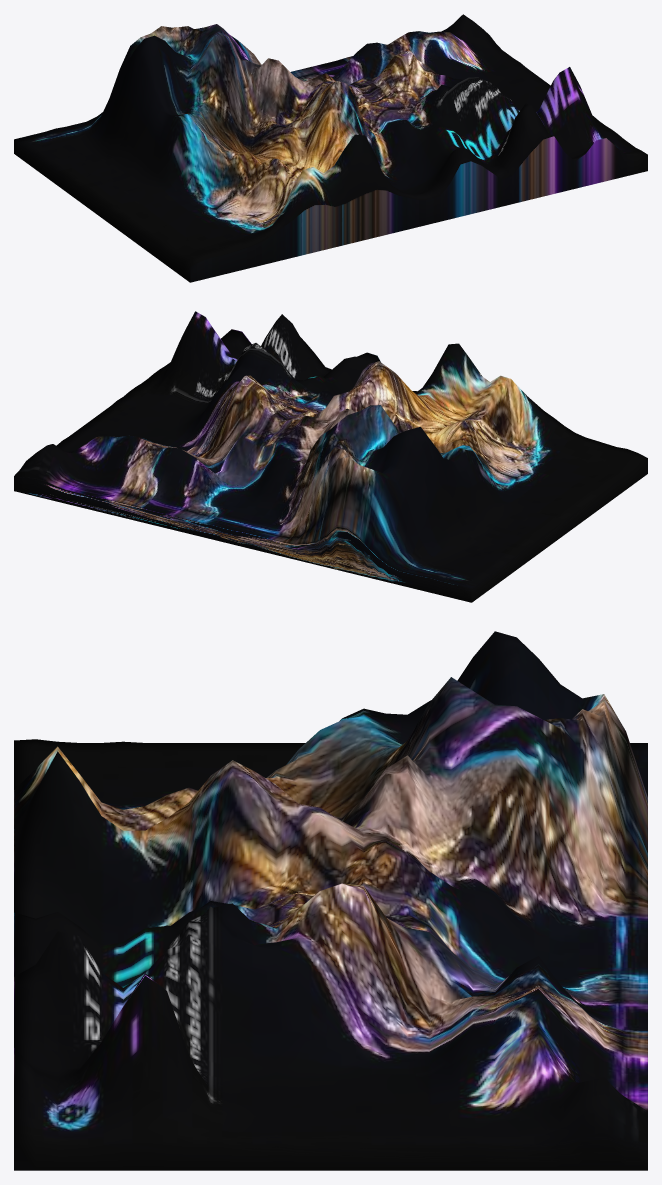
Rendered from MOUNT_15_Lion_Mount.glb.
3 views of the same model, one above another, from view 1: azimuth 30°, elevation 25°; view 2: azimuth 150°, elevation 25°; view 3: azimuth 270°, elevation 25° (orthographic). The views are drawn at different scales.
Parts seen in each view (by area): view 1: MOUNT_15_Lion_Mount; view 2: MOUNT_15_Lion_Mount; view 3: MOUNT_15_Lion_Mount.
Boxes of the visible parts, x1,y1,x2,y2 form: MOUNT_15_Lion_Mount: [14, 14, 647, 282]; MOUNT_15_Lion_Mount: [14, 311, 647, 602]; MOUNT_15_Lion_Mount: [14, 631, 647, 1170].
Size of the model in its own units: 2 by 0.51 by 1.33.
Materials: 1 (1 with a texture image).
